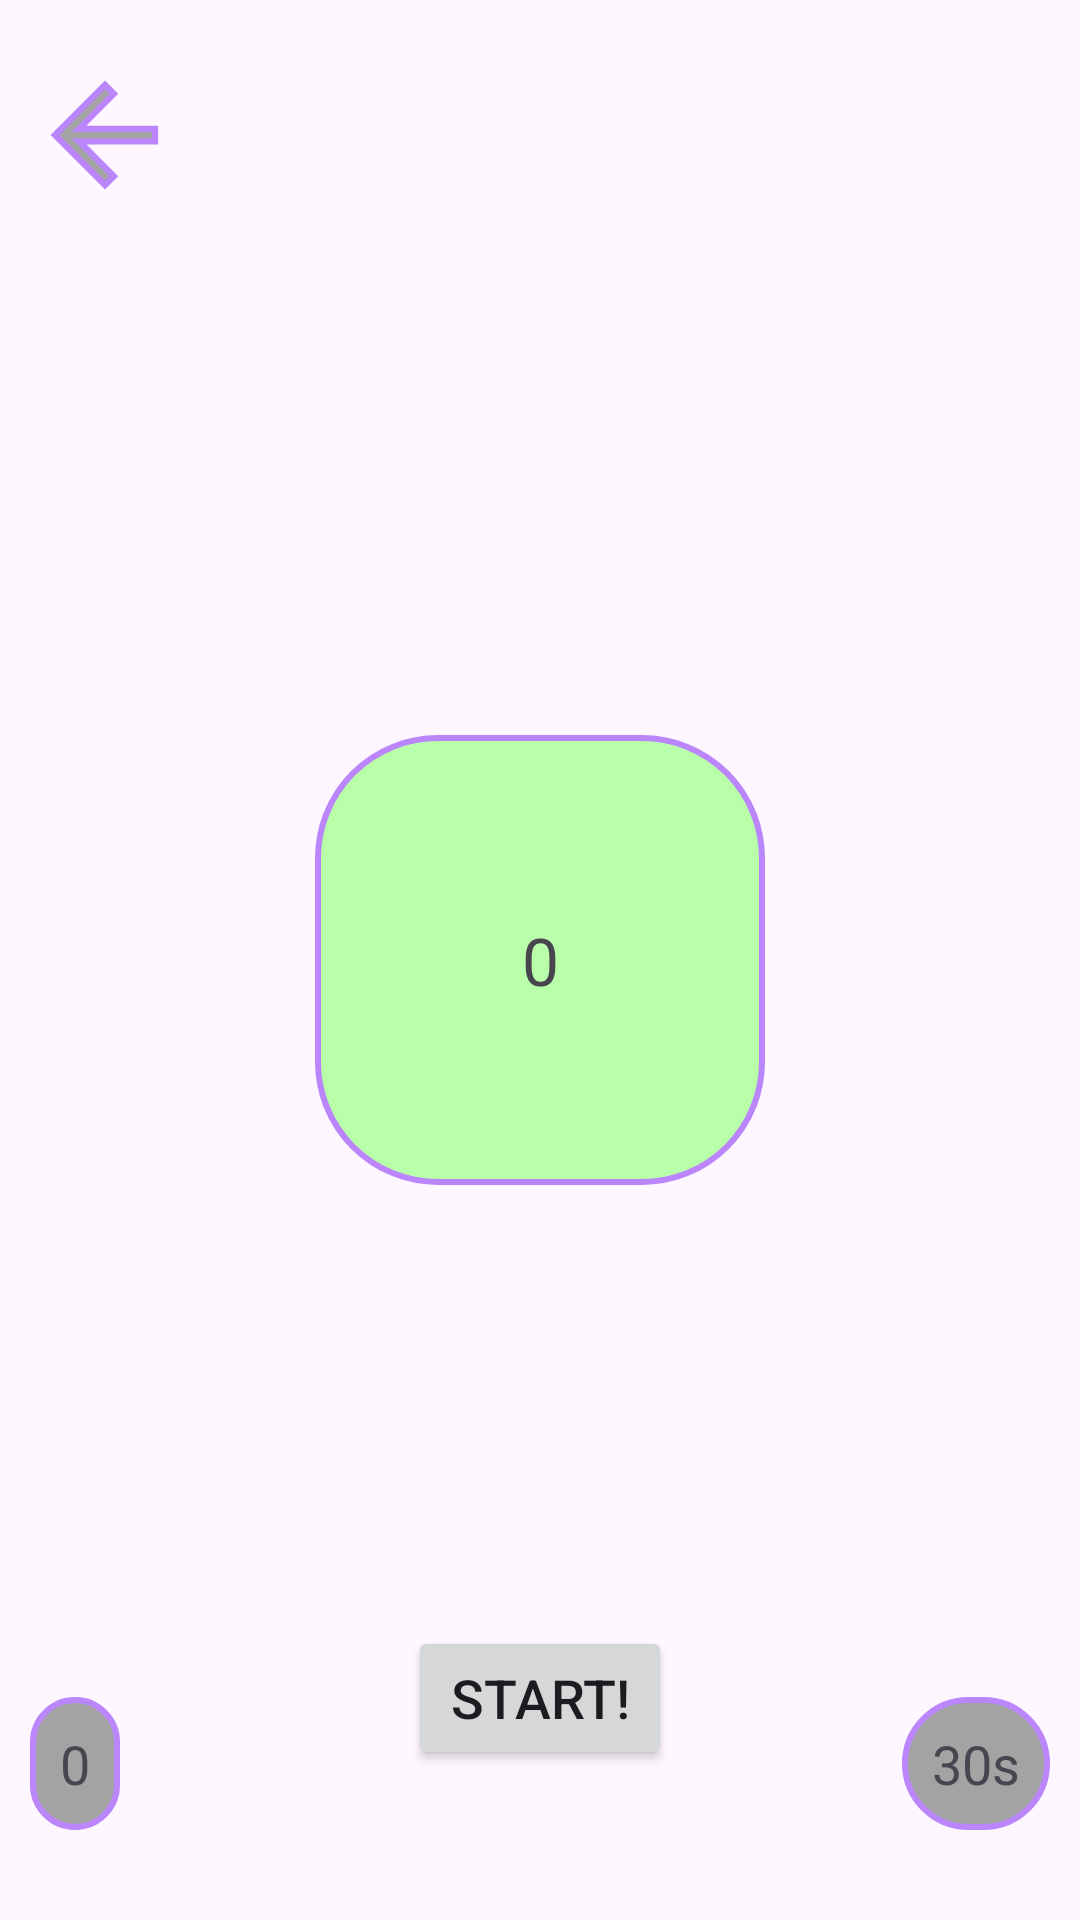

Icons on this 1080px×1920px Android screen, each with the point to tap as (x=x, y=y):
arrow back: (x=104, y=135)
